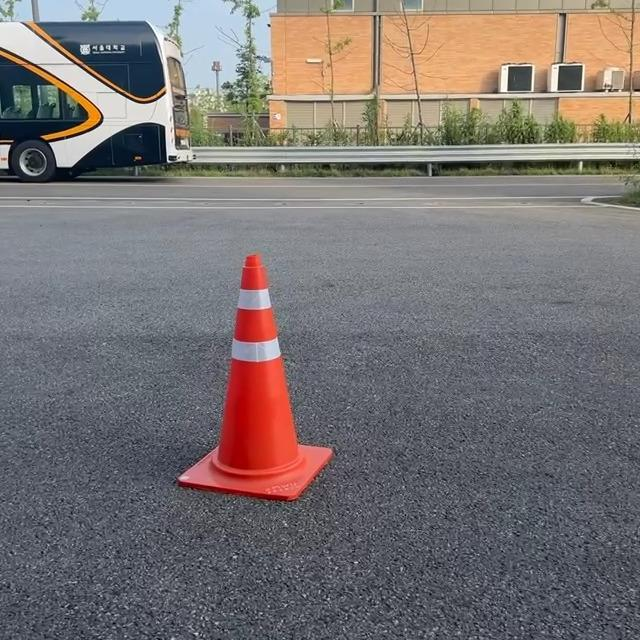fallen_object: (157, 239, 428, 514)
